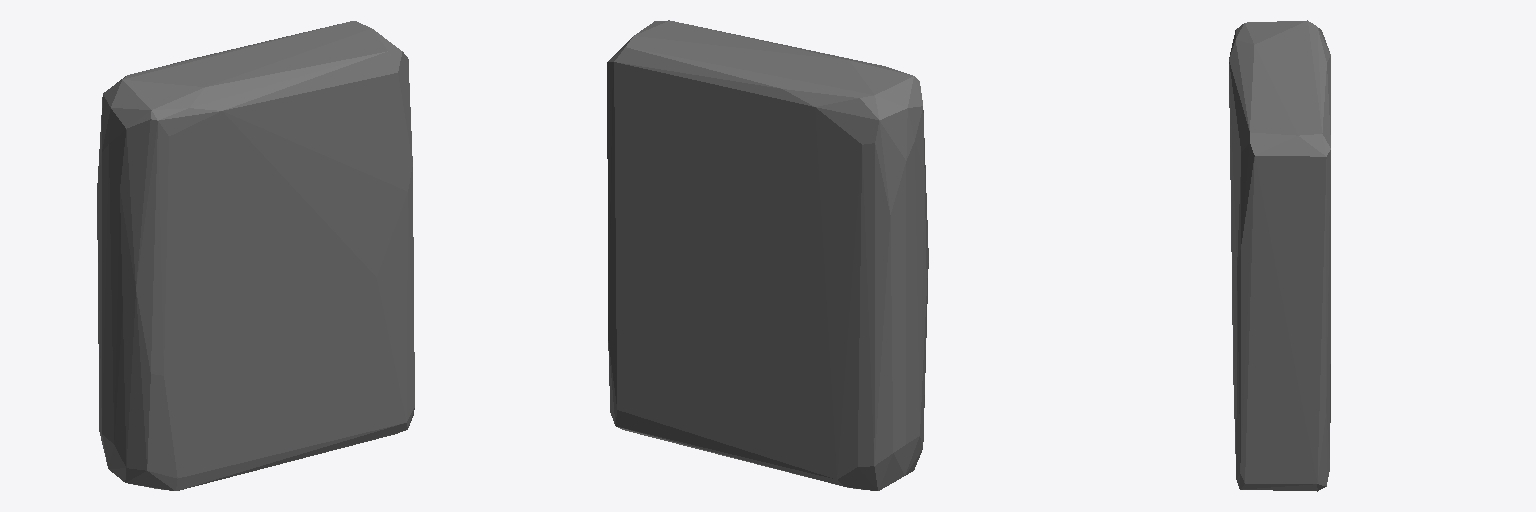
The robot description file, URDF, robot "book_022":
<?xml version="1.0" ?>
<robot name="book_022">
  <material name="color">
    <color rgba=".5 .5 .5 1"/>
  </material>

  <link name="base_link">
    <contact>
      <lateral_friction value="1.0"/>
      <rolling_friction value="0.001"/>
      <spinning_friction value="0.001"/>
      <inertia_scaling value="1.0"/>
    </contact>
    <inertial>
      <origin rpy="0 0 0" xyz="0.00257929 0.000244467 -0.000331114"/>
       <mass value="0.1"/>
       <inertia ixx="1" ixy="0" ixz="0" iyy="1" iyz="0" izz="1"/>
    </inertial>

    <visual>
      <origin rpy="0 0 0" xyz="0 0 0"/>
      <geometry>
        <mesh filename="book_022_vhacd_0_of_1.obj" scale="1 1 1"/>
      </geometry>
      <material name="color"/>
    </visual>

    <collision>
      <origin rpy="0 0 0" xyz="0 0 0"/>
      <geometry>
        <mesh filename="book_022_vhacd_0_of_1.obj" scale="1 1 1"/>
      </geometry>
    </collision>

  </link>
</robot>

--- Render facts (derived) ---
The picture shows the robot from 3 angles, left to right: view 1: azimuth 30°, elevation 25°; view 2: azimuth 150°, elevation 25°; view 3: azimuth 270°, elevation 25°; orthographic projection.
Model book_022 with 1 links and 0 joints (none), rooted at base_link, posed every joint at zero.
Links seen in each view (by area): view 1: base_link; view 2: base_link; view 3: base_link.
Link boxes in pixels (x1,y1,x2,y2): base_link: (97, 21, 414, 490); base_link: (607, 20, 928, 490); base_link: (1229, 20, 1330, 491).
Bounding box of the posed robot: 0.1569 × 0.0527 × 0.208 m (x, y, z).
Meshes: 1 distinct files referenced, 1 mesh visuals loaded (1 OBJ).